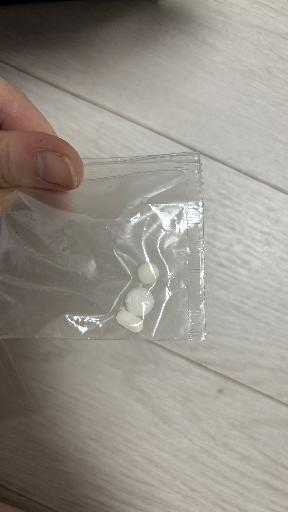Elexin: (137, 262, 159, 285)
Humosa: (116, 310, 143, 333)
Lexofen: (125, 287, 153, 318)
vinyl: (0, 152, 206, 341)
